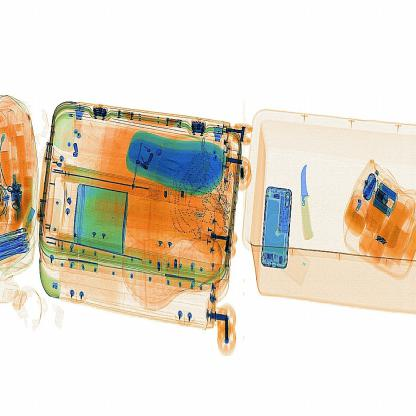wrench: (294, 149, 322, 260)
